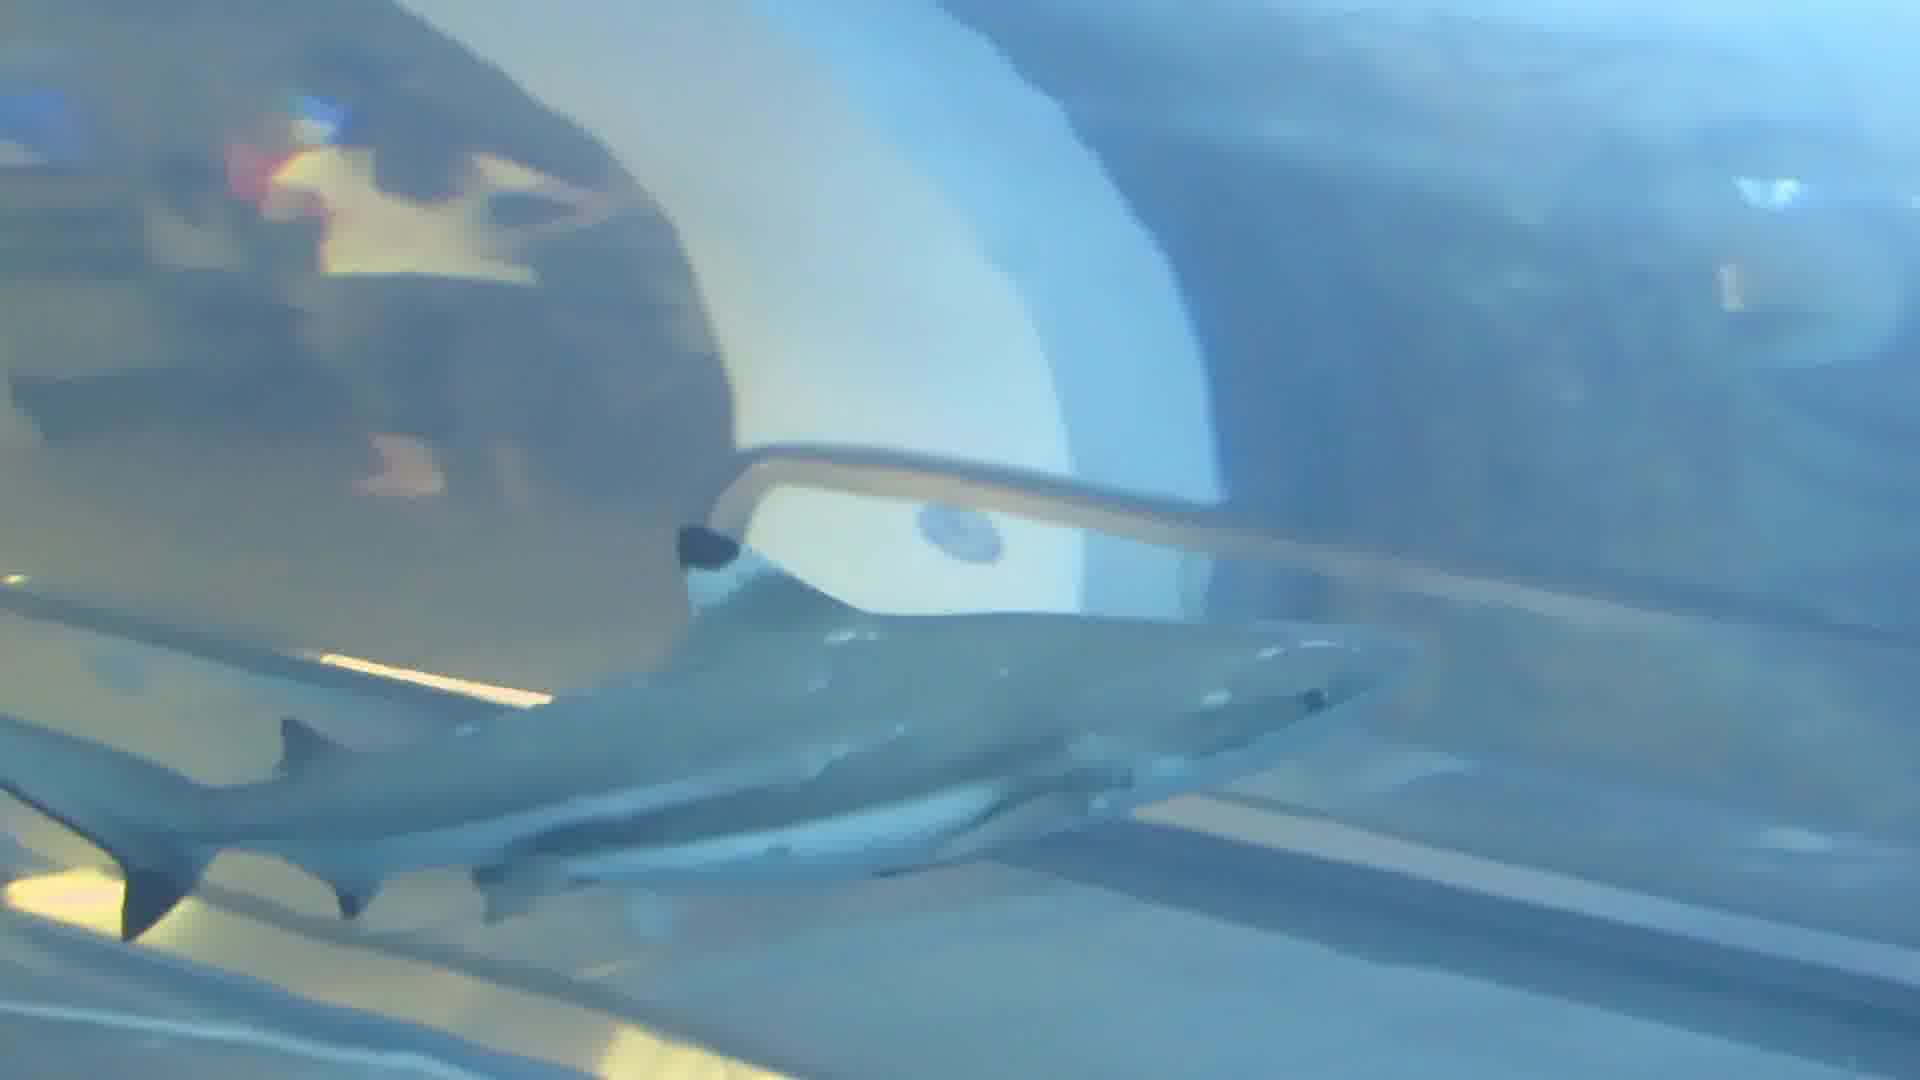Carcharhinus melanopterus: (1, 498, 1451, 948)
